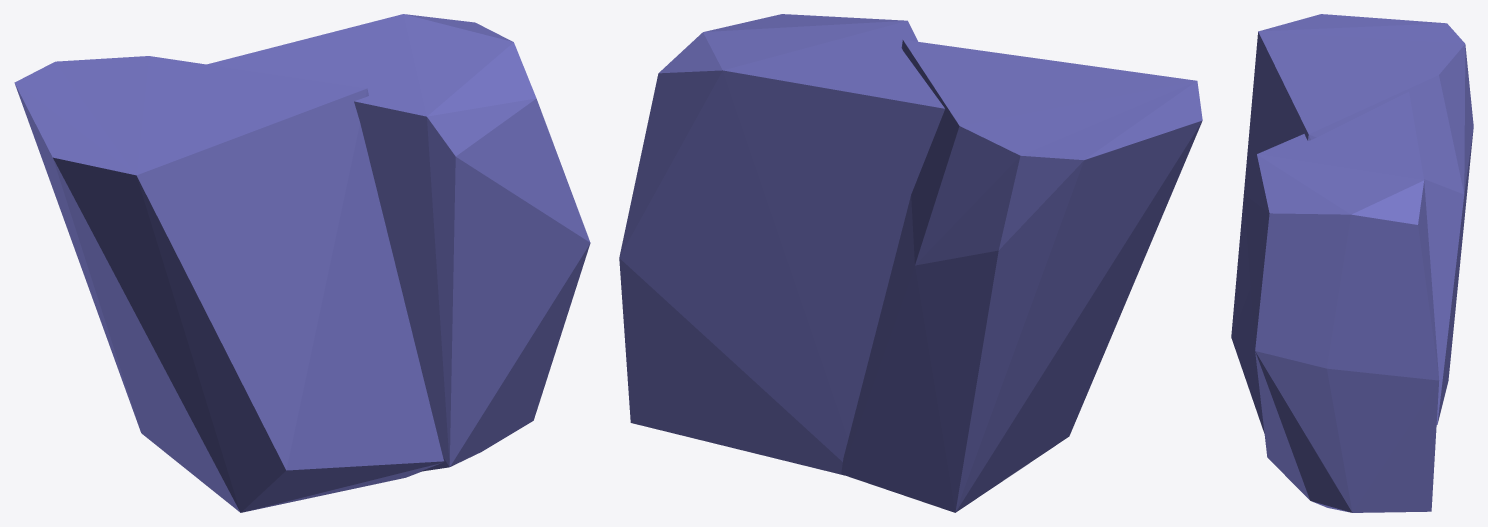
The model's file is Cliff_Block_03_Slope_Collider_01.FBX.
3 renders of one model, left to right at view 1: azimuth 30°, elevation 25°; view 2: azimuth 150°, elevation 25°; view 3: azimuth 270°, elevation 25°, orthographic. The views are drawn at different scales.
Parts seen in each view (by area): view 1: COLLIDER1, COLLIDER2; view 2: COLLIDER2, COLLIDER1; view 3: COLLIDER2, COLLIDER1.
Part boxes in pixels (x1,y1,x2,y2): COLLIDER1: (14,56,444,512); COLLIDER2: (207,14,590,471); COLLIDER2: (619,14,944,475); COLLIDER1: (841,39,1202,512); COLLIDER2: (1244,92,1439,512); COLLIDER1: (1231,14,1473,433).
Bounding box in the file's own units: 451 × 348 × 231.
